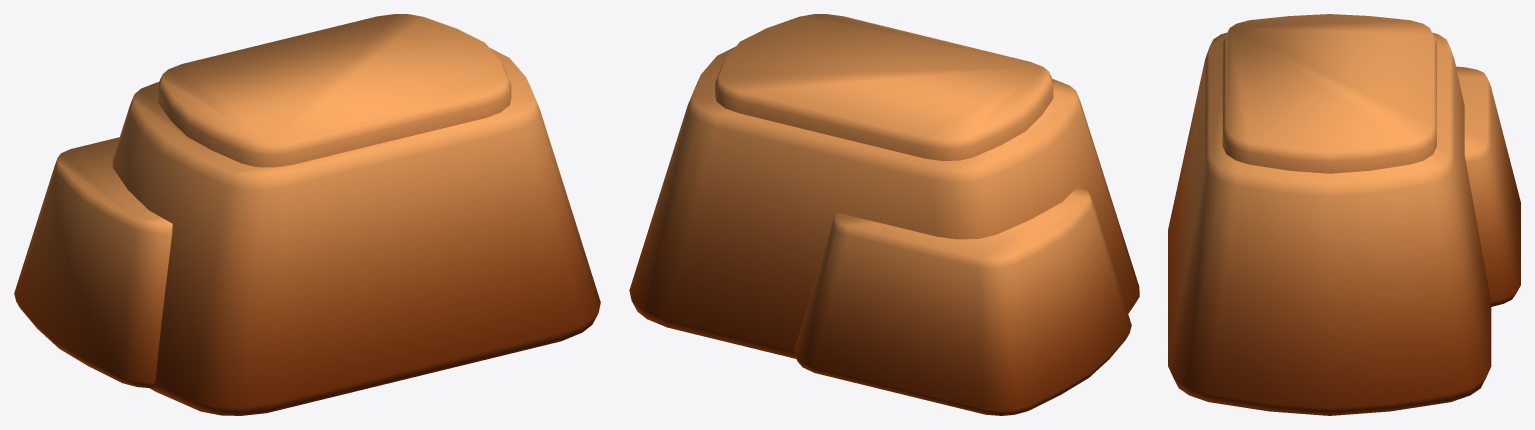
Rendered from mountain2.fbx.
3 renders of one model, left to right at view 1: azimuth 30°, elevation 25°; view 2: azimuth 150°, elevation 25°; view 3: azimuth 270°, elevation 25°, orthographic. The views are drawn at different scales.
Visible parts, largest first — view 1: Platform1.006; view 2: Platform1.006; view 3: Platform1.006.
Part boxes in pixels (x1,y1,x2,y2): Platform1.006: [14, 14, 600, 415]; Platform1.006: [629, 14, 1139, 415]; Platform1.006: [1168, 14, 1520, 415].
Bounding box in the file's own units: 3041 × 1437 × 2011.
